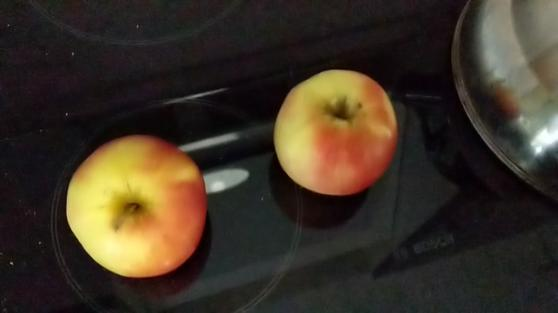apple: (62, 132, 212, 280), (269, 64, 399, 197)
